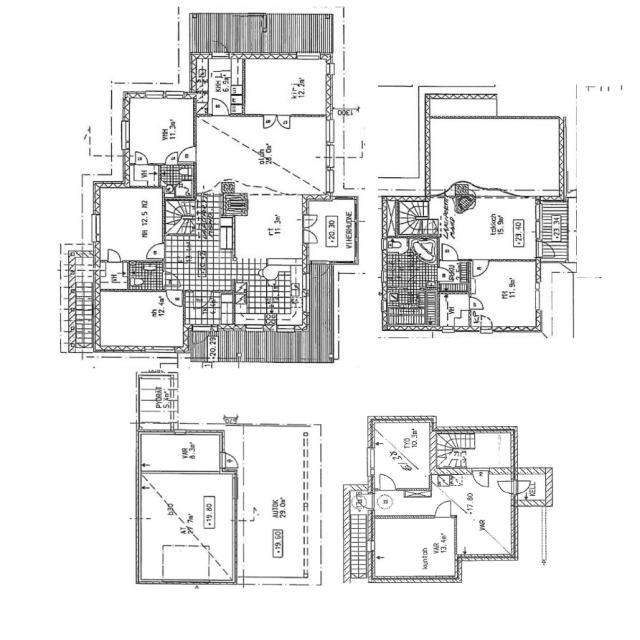door: (240, 423, 316, 585), (263, 113, 292, 131), (175, 144, 198, 164), (470, 468, 491, 489), (218, 451, 240, 471), (438, 242, 461, 261), (377, 472, 398, 492), (256, 183, 286, 197), (144, 241, 166, 260), (470, 258, 490, 278), (210, 97, 230, 117), (165, 288, 184, 308), (433, 499, 453, 518), (537, 241, 557, 259), (105, 246, 124, 263), (496, 478, 515, 495), (302, 227, 319, 245), (212, 42, 230, 59), (165, 273, 182, 289), (479, 314, 494, 332), (467, 295, 485, 310), (162, 150, 181, 164), (133, 150, 150, 165), (501, 188, 520, 200)
window: (323, 118, 338, 151), (90, 211, 104, 244), (366, 445, 378, 477), (121, 118, 133, 150), (142, 345, 176, 356), (533, 282, 544, 312), (296, 52, 322, 61), (144, 89, 166, 99), (502, 188, 518, 200), (440, 326, 456, 334)
zone: (238, 423, 316, 586), (138, 470, 234, 584), (447, 195, 537, 260), (94, 289, 185, 352), (372, 516, 457, 580), (241, 58, 330, 116), (232, 195, 308, 262), (95, 186, 162, 262), (452, 473, 513, 556), (470, 260, 540, 330), (125, 96, 196, 164), (163, 198, 235, 260), (372, 419, 431, 491), (304, 198, 358, 264), (139, 432, 224, 473), (196, 56, 245, 115), (385, 234, 437, 289), (386, 257, 436, 309), (164, 160, 208, 218), (254, 261, 304, 304), (156, 546, 211, 582), (163, 198, 210, 239), (184, 288, 234, 326), (66, 249, 95, 313), (469, 431, 514, 471), (432, 473, 475, 514), (387, 291, 432, 326), (162, 262, 210, 290), (514, 469, 548, 507), (538, 200, 566, 246), (159, 162, 195, 197), (396, 198, 430, 235), (68, 306, 95, 352), (438, 291, 470, 328), (129, 260, 165, 290), (438, 260, 470, 292), (98, 261, 130, 290), (124, 164, 161, 187), (434, 448, 468, 472)
